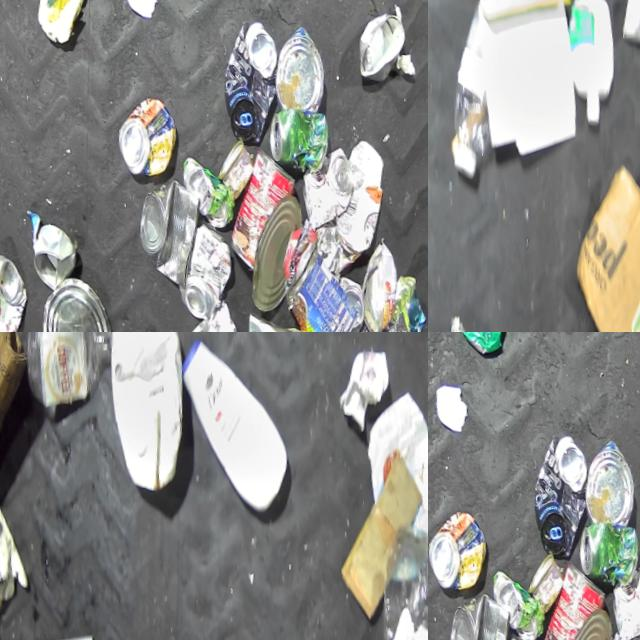can: (208, 143, 298, 275), (204, 13, 283, 144), (514, 427, 593, 558), (118, 173, 200, 290), (230, 188, 302, 315), (259, 241, 356, 332), (518, 557, 608, 640), (160, 219, 229, 321), (102, 91, 176, 180), (283, 138, 351, 232), (260, 20, 327, 112), (570, 434, 637, 526), (17, 270, 109, 332), (253, 100, 324, 173), (563, 514, 634, 587), (340, 236, 393, 332), (428, 505, 485, 593), (345, 1, 406, 81), (165, 154, 230, 229), (475, 567, 540, 640), (428, 586, 510, 640), (593, 552, 640, 640), (15, 223, 73, 294), (202, 135, 251, 200), (512, 549, 561, 614), (540, 602, 612, 640), (321, 272, 357, 332), (0, 250, 25, 332), (225, 308, 299, 332), (447, 332, 512, 355), (341, 320, 390, 332)
milk_jug: (82, 332, 202, 498)
plastic_bottle: (355, 515, 428, 640)
